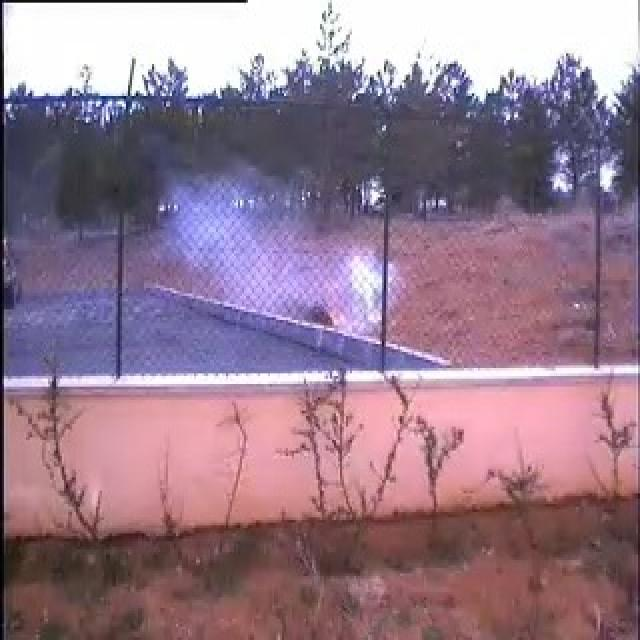smoke: (104, 164, 386, 367)
